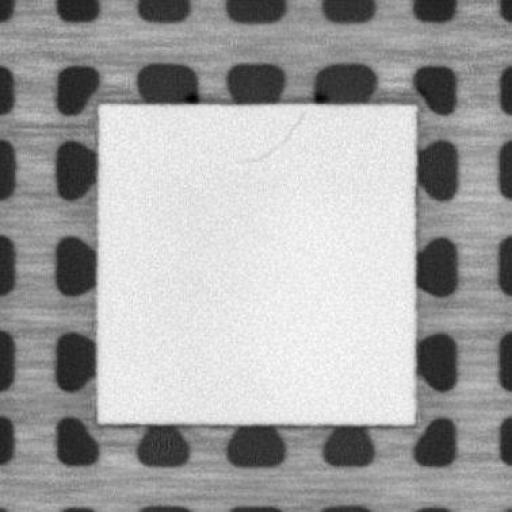DIE_CRACK: (236, 108, 309, 166)
